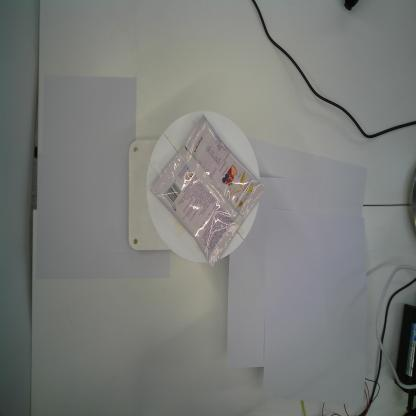Instant Drink: (150, 113, 267, 268)
